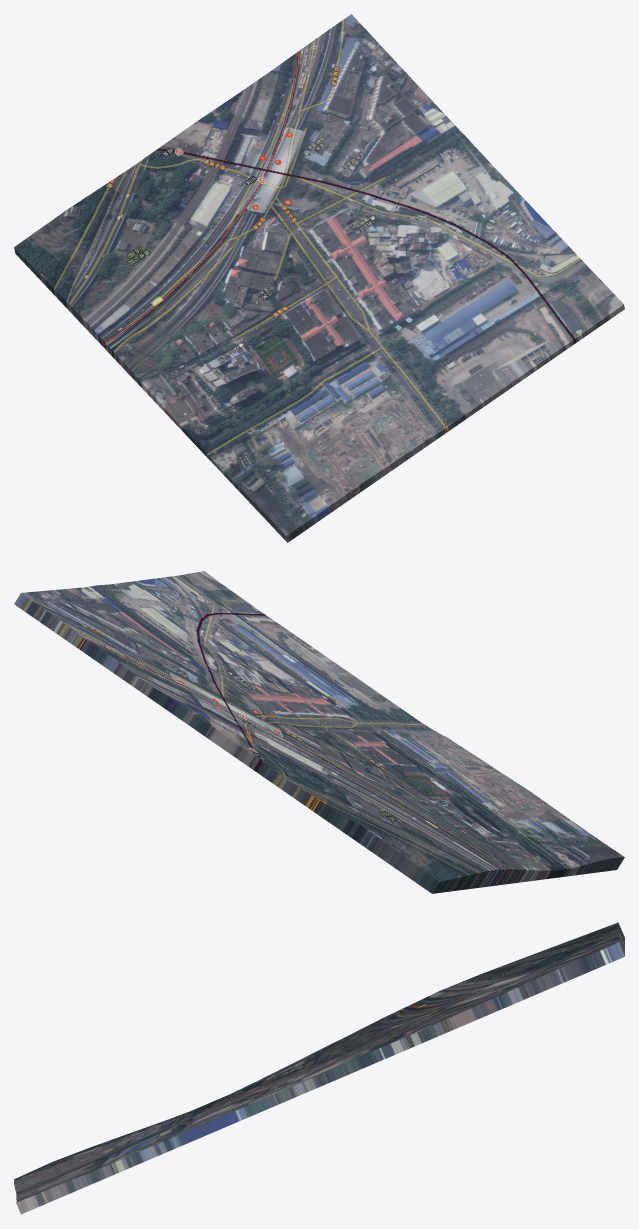
3 renders of one model, top to bottom at view 1: azimuth 30°, elevation 25°; view 2: azimuth 150°, elevation 25°; view 3: azimuth 270°, elevation 25°, orthographic. The views are drawn at different scales.
Parts seen in each view (by area): view 1: 0_9_2; view 2: 0_9_2; view 3: 0_9_2.
Part boxes in pixels (<box>): 0_9_2: <box>14,14,624,542</box>; 0_9_2: <box>14,571,624,893</box>; 0_9_2: <box>14,922,624,1214</box>.
Size of the model in its own units: 598 by 439 by 548.
Materials: 1 (1 with a texture image).
